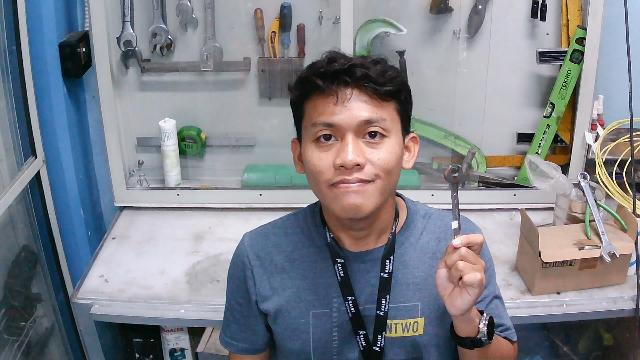kunci_pass_13: (430, 159, 494, 302)
